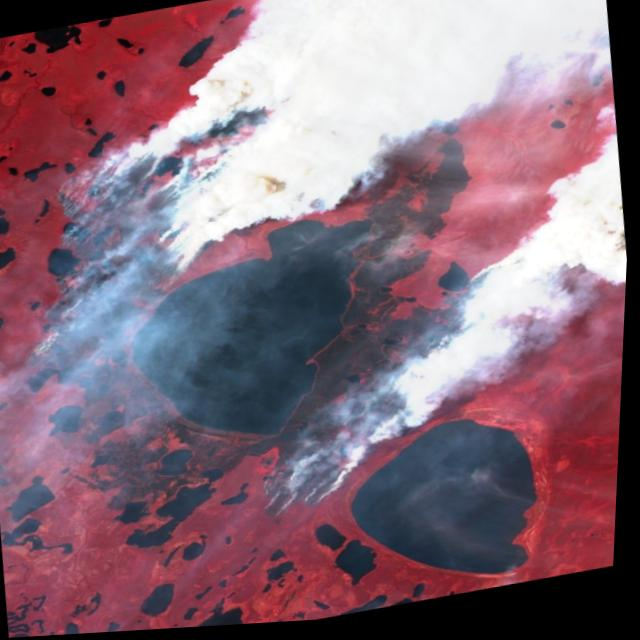fire: (0, 26, 638, 567)
